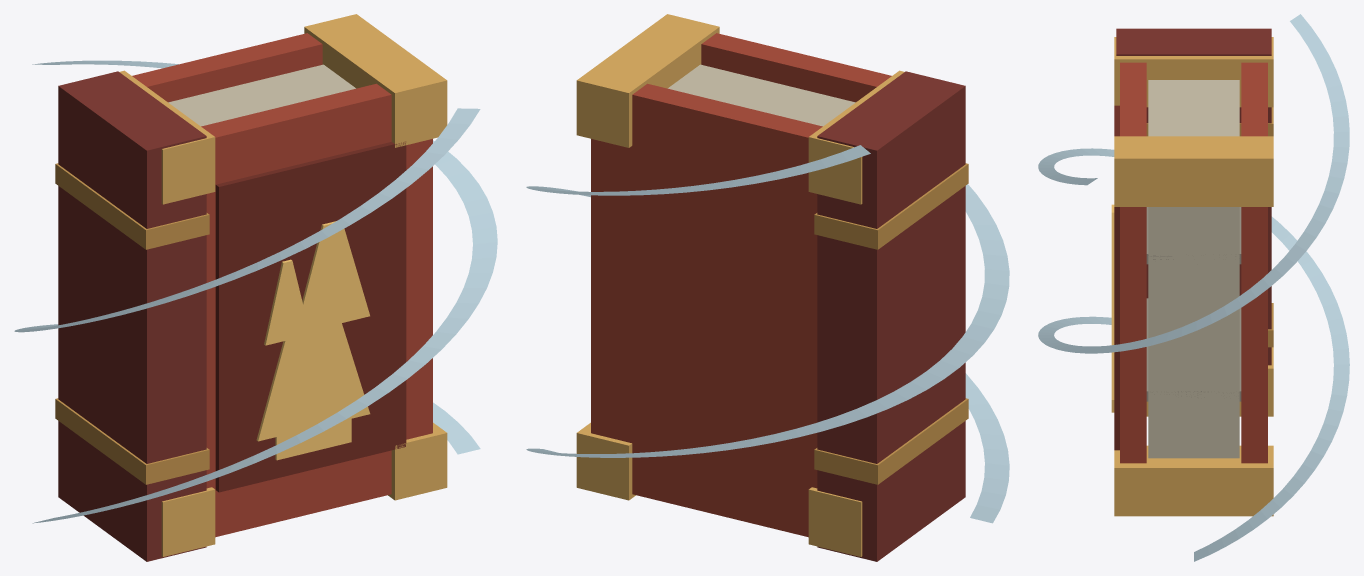
Rendered from fire_spellbook.glb.
The picture shows the model from 3 angles, left to right: view 1: azimuth 30°, elevation 25°; view 2: azimuth 150°, elevation 25°; view 3: azimuth 270°, elevation 25°; orthographic projection. The views are drawn at different scales.
Visible parts, largest first — view 1: Covers, Spine, Emblem, BookFlameRibbons, Pages; view 2: Covers, Spine, BookFlameRibbons, Pages; view 3: Covers, Pages, BookFlameRibbons, Spine, Emblem.
Boxes of the visible parts, bbox=[...] form: Covers: bbox=[119, 14, 447, 556]; Spine: bbox=[55, 71, 209, 561]; Emblem: bbox=[256, 221, 370, 460]; BookFlameRibbons: bbox=[14, 60, 497, 523]; Pages: bbox=[168, 64, 355, 126]; Covers: bbox=[576, 14, 904, 556]; Spine: bbox=[814, 71, 968, 561]; BookFlameRibbons: bbox=[526, 145, 1009, 523]; Pages: bbox=[668, 64, 855, 126]; Covers: bbox=[1114, 37, 1273, 516]; Pages: bbox=[1146, 80, 1241, 458]; BookFlameRibbons: bbox=[1038, 14, 1349, 561]; Spine: bbox=[1116, 28, 1273, 365]; Emblem: bbox=[1111, 204, 1114, 412].
Bounding box in the file's own units: 1.2 × 1.11 × 0.8221.
